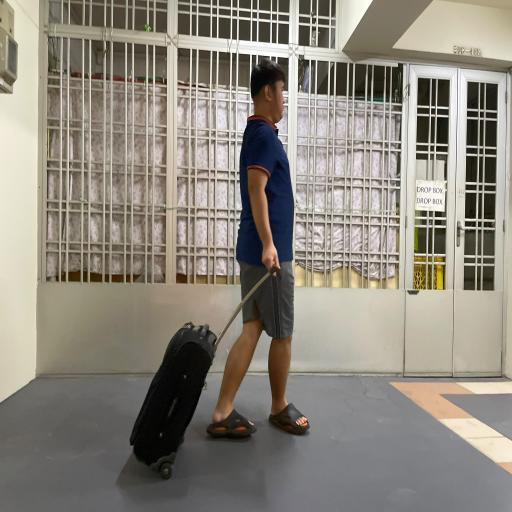person_right: (112, 63, 312, 482)
